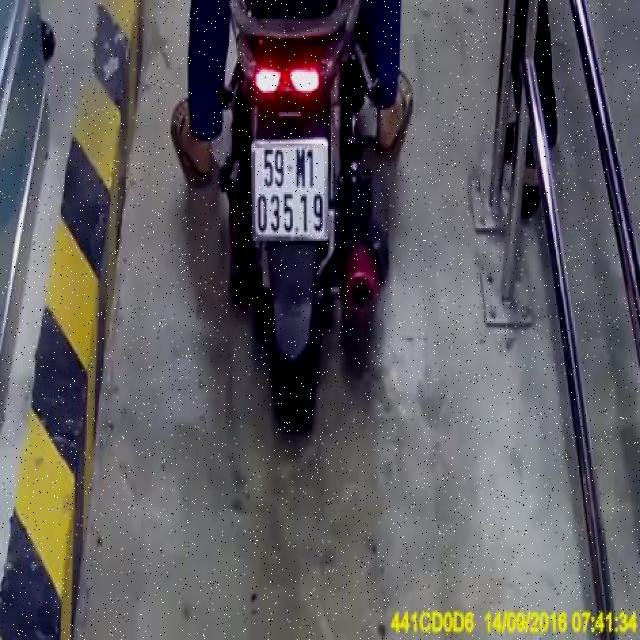0: (256, 193, 268, 233)
1: (299, 192, 309, 234), (307, 148, 315, 189)
3: (270, 192, 281, 234)
5: (282, 192, 294, 233), (263, 147, 274, 189)
9: (312, 192, 324, 235), (275, 148, 285, 190)
M: (294, 146, 306, 190)
